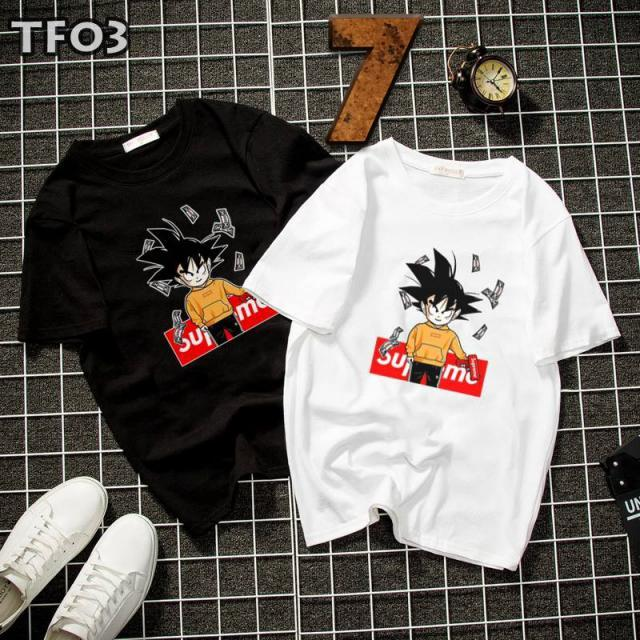Shirt: (21, 86, 426, 552), (250, 132, 628, 578)
